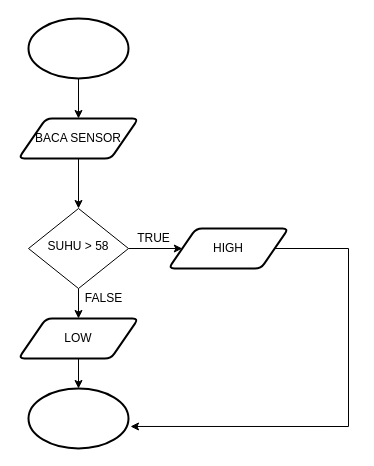
Some shapes in this 374 by 466 pixel diagram are drawn without their labels. The centre of each missing label's shape, as x and y in pixels:
FINISH: the point at 78,418
START: the point at 78,48
